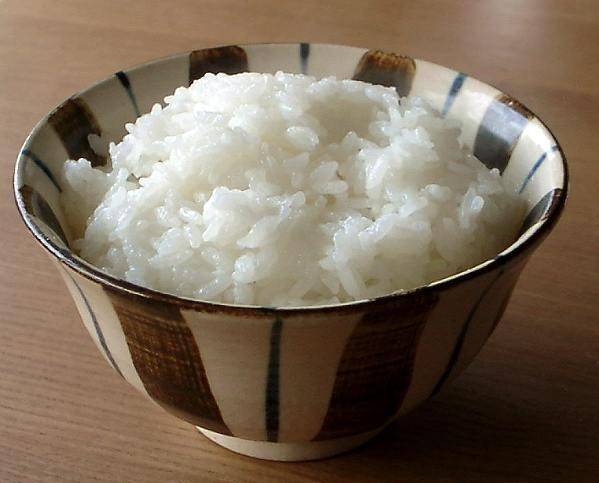rice: (66, 74, 520, 308)
